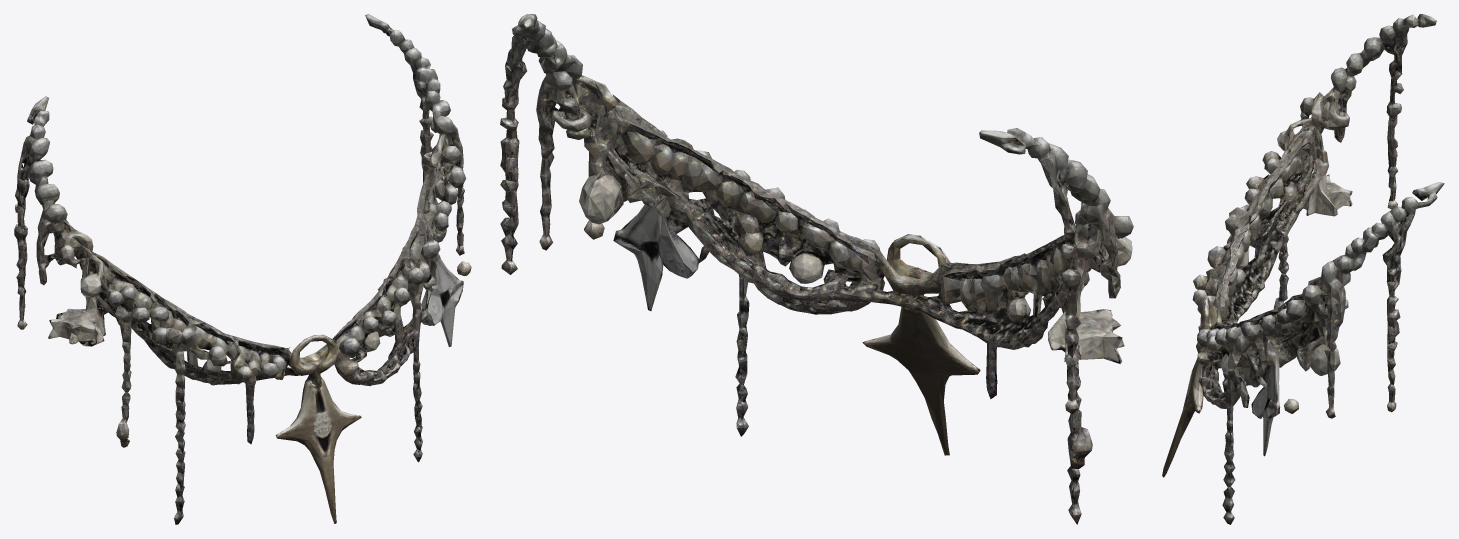
File: sample.glb
The picture shows the model from 3 angles, left to right: view 1: azimuth 30°, elevation 25°; view 2: azimuth 150°, elevation 25°; view 3: azimuth 270°, elevation 25°; orthographic projection. The views are drawn at different scales.
Visible parts, largest first — view 1: world; view 2: world; view 3: world.
Part boxes in pixels (bbox=[...]): world: bbox=[14, 14, 471, 524]; world: bbox=[500, 14, 1133, 524]; world: bbox=[1162, 14, 1444, 524].
Size of the model in its own units: 1 by 0.8404 by 0.568.
Materials: 1 (1 with a texture image).
